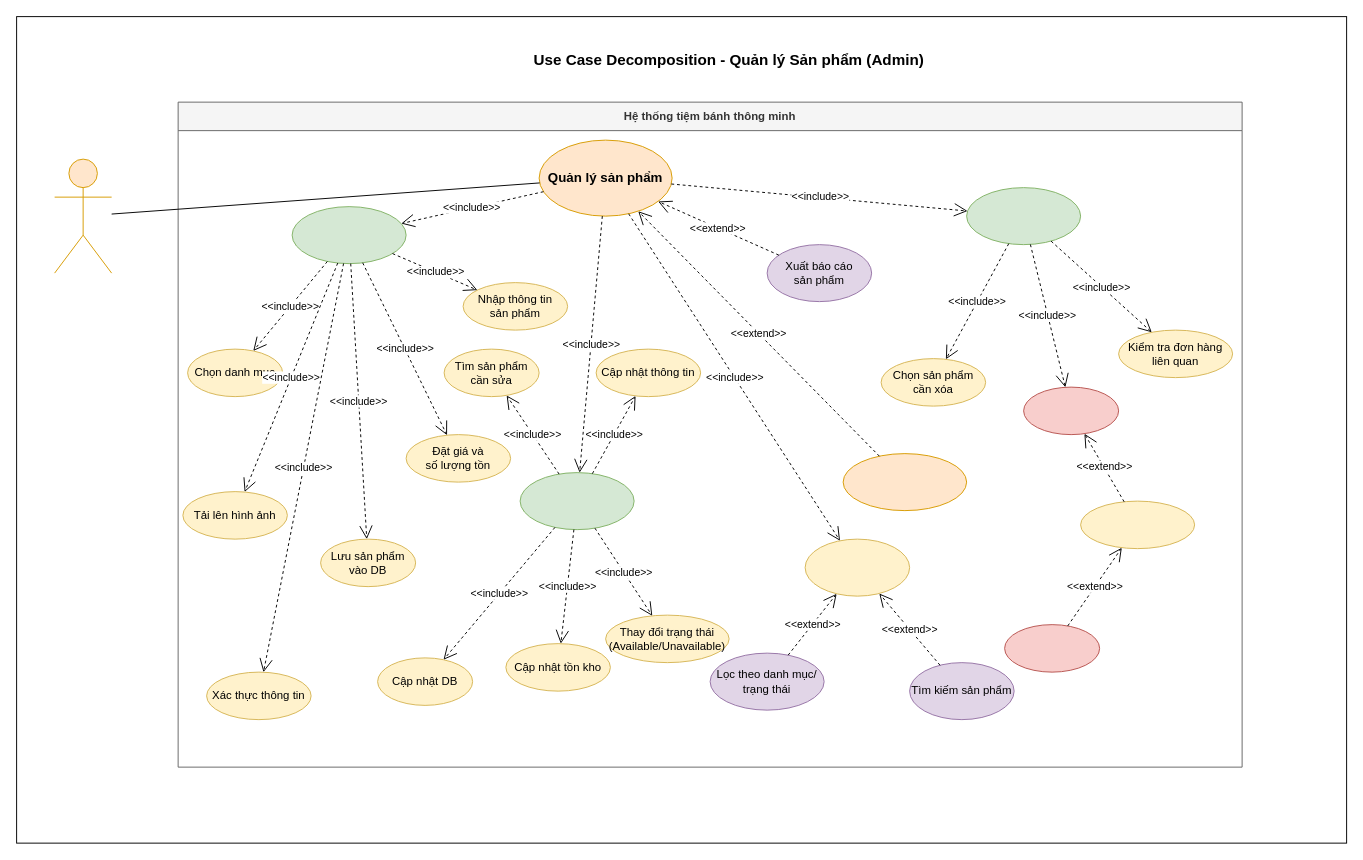
This 1363x860 diagram has some shape labels left out. The shapes that lost their labels are listed below. From the top down, each one's centre as x and y in pixels, then its label:
the point at 83,215: Quan tri vien
the point at 348,235: Thêm sản phẩm mới
the point at 1023,216: Xóa sản phẩm
the point at 1071,410: Xác nhận xóa
the point at 576,501: Sửa sản phẩm
the point at 904,482: Thông báo sản phẩm sắp hết hàng
the point at 1137,524: Xóa mềm (đánh dấu inactive)
the point at 857,567: Xem danh sách sản phẩm
the point at 1052,648: Xóa khỏi DB
